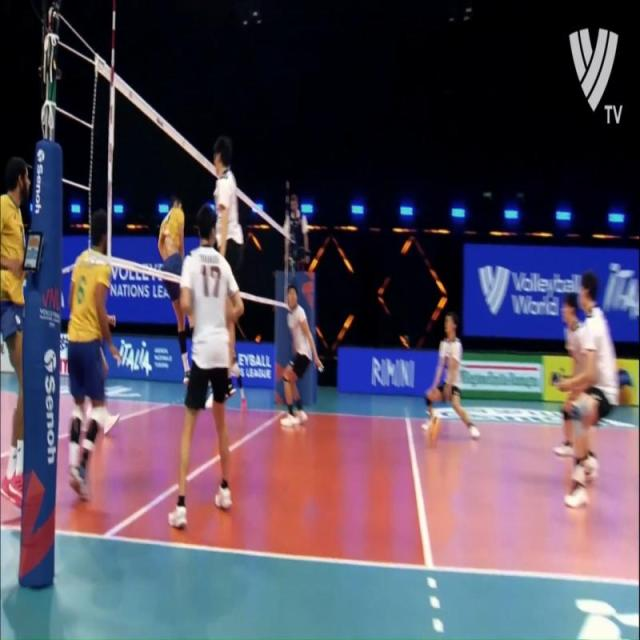volleyball: (424, 409, 442, 448)
